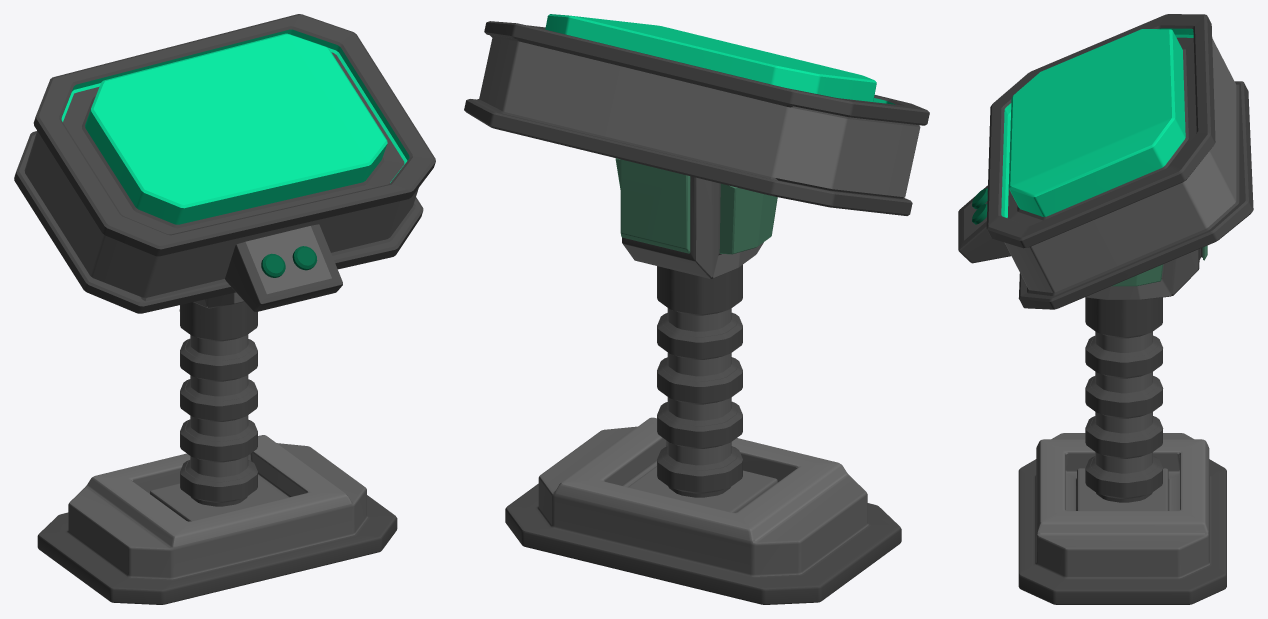
Rendered from inpunt_panel.fbx.
3 renders of one model, left to right at view 1: azimuth 30°, elevation 25°; view 2: azimuth 150°, elevation 25°; view 3: azimuth 270°, elevation 25°, orthographic. The views are drawn at different scales.
Parts seen in each view (by area): view 1: pCube2, pCube4, pCylinder1, pCube5; view 2: pCube2, pCube4, pCylinder1, pCube3; view 3: pCube2, pCube4, pCylinder1, pCube3, pCube5.
Boxes of the visible parts, left/top/right/bottom form: pCube2: left=14, top=14, right=435, bottom=313; pCube4: left=37, top=435, right=397, bottom=604; pCylinder1: left=179, top=301, right=257, bottom=506; pCube5: left=225, top=224, right=342, bottom=311; pCube2: left=464, top=14, right=929, bottom=215; pCube4: left=505, top=417, right=901, bottom=604; pCylinder1: left=657, top=264, right=742, bottom=497; pCube3: left=615, top=158, right=777, bottom=278; pCube2: left=986, top=14, right=1253, bottom=309; pCube4: left=1018, top=433, right=1226, bottom=604; pCylinder1: left=1085, top=297, right=1163, bottom=502; pCube3: left=1085, top=245, right=1207, bottom=299; pCube5: left=958, top=185, right=1010, bottom=263.
Size of the model in its own units: 4.69 by 6.31 by 3.64.
